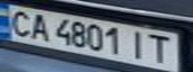0: (84, 21, 106, 53)
1: (103, 25, 124, 56)
4: (51, 16, 72, 46)
8: (66, 19, 87, 49)
A: (24, 11, 54, 43)
C: (3, 7, 36, 37)
I: (124, 28, 151, 61)
T: (145, 31, 178, 64)
